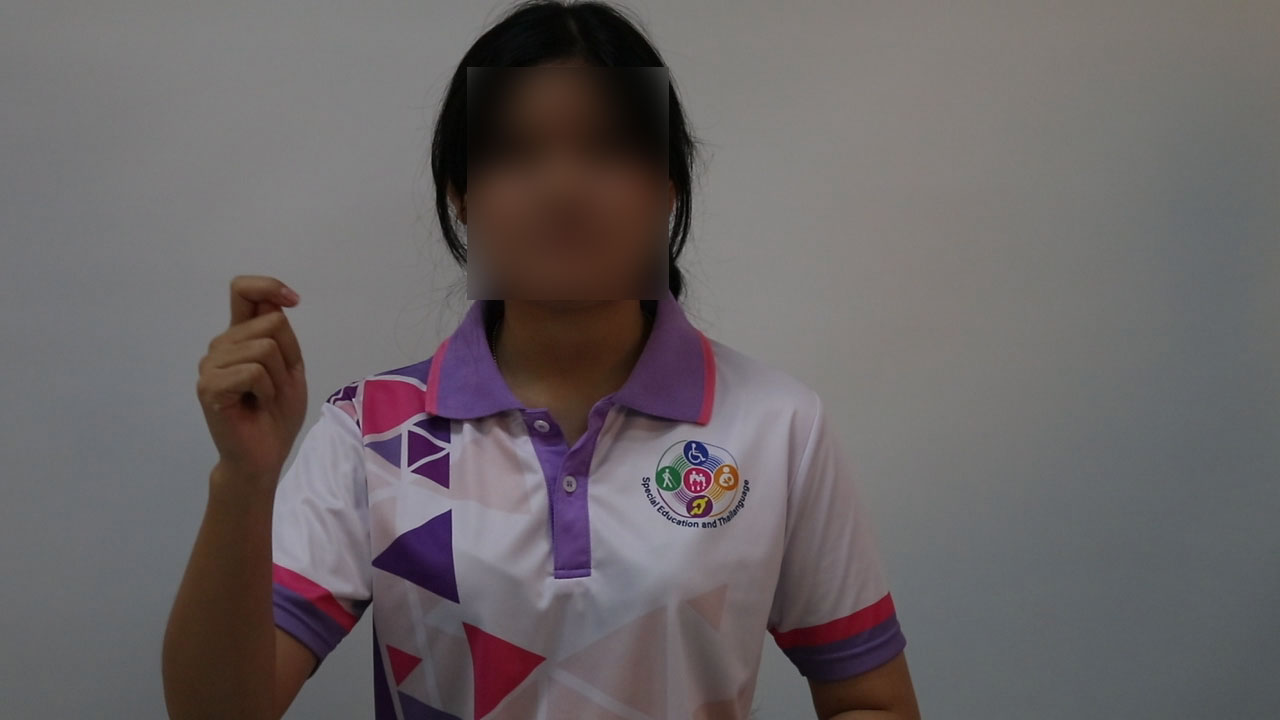or: (187, 271, 316, 481)
